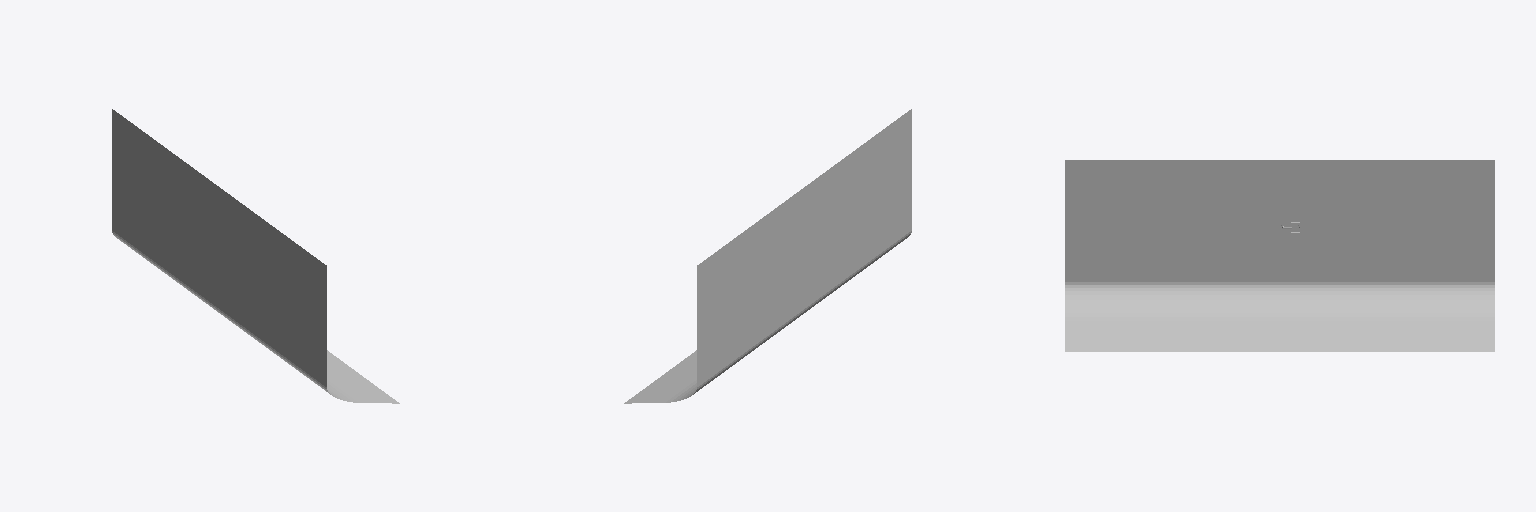
The model's file is Doorhandles.obj.
3 renders of one model, left to right at view 1: azimuth 30°, elevation 25°; view 2: azimuth 150°, elevation 25°; view 3: azimuth 270°, elevation 25°, orthographic.
Visible parts, largest first — view 1: Wall_Plane; view 2: Wall_Plane; view 3: Wall_Plane.
Boxes of the visible parts, box(x1,y1,x2,y2) form: Wall_Plane: box(112, 109, 399, 403); Wall_Plane: box(624, 109, 911, 403); Wall_Plane: box(1065, 160, 1494, 351).
Size of the model in its own units: 39.29 by 79.82 by 200.